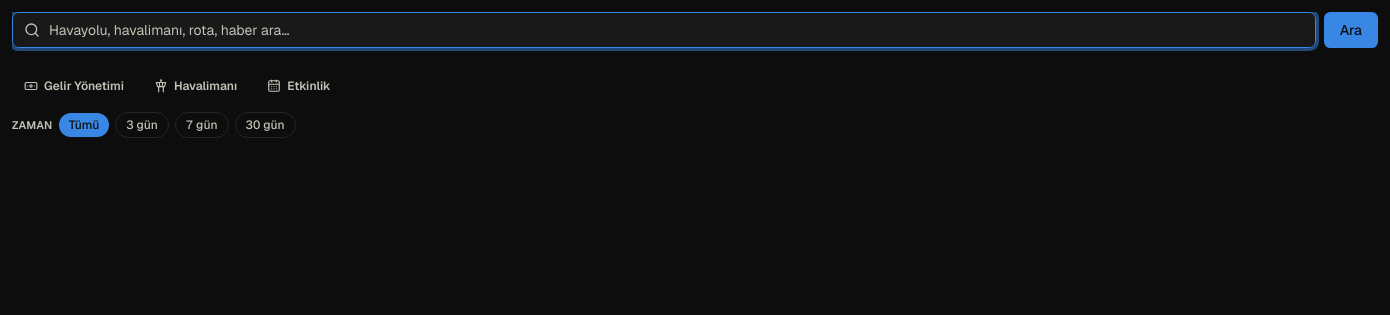
SearchClient › writes the submitted query back into the URL
Type "yakıt" into the field at (664, 30), box x1=12 y1=12 x2=1316 y2=48
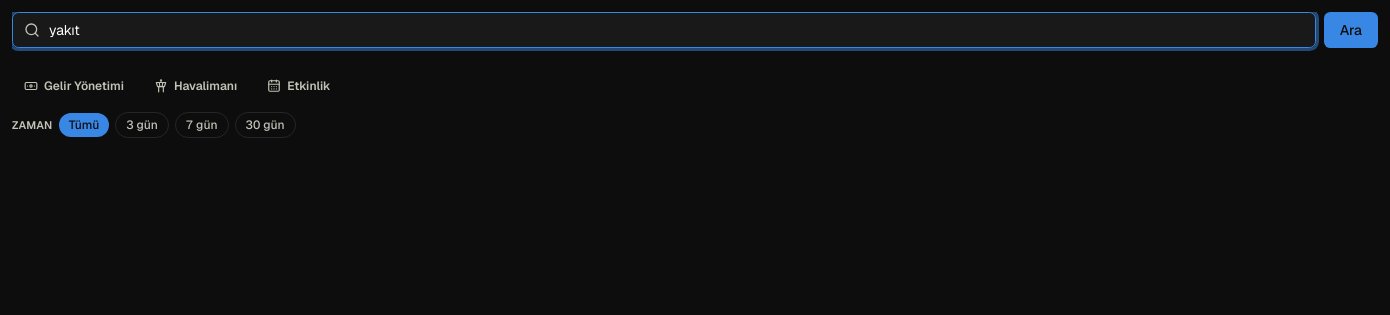
Click the button "Ara" at (1351, 30), box x1=1324 y1=12 x2=1378 y2=48
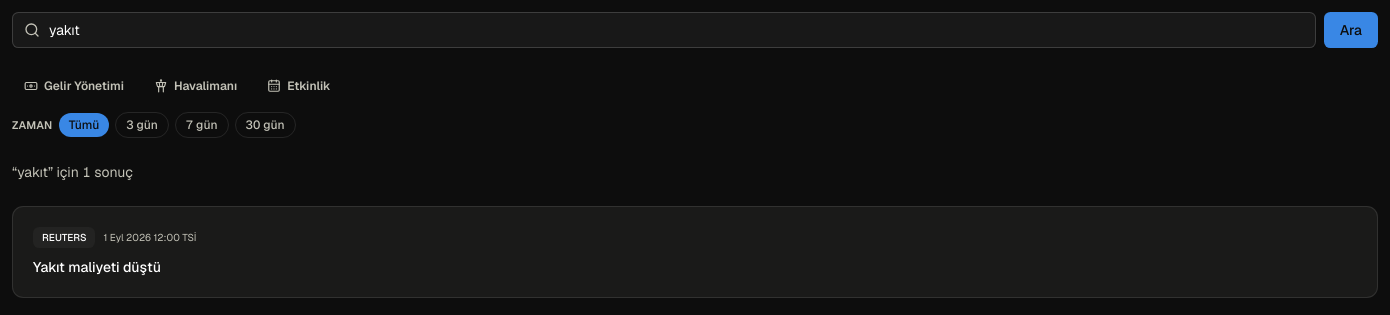
Now the text "Yakıt maliyeti düştü" is shown, box x1=33 y1=258 x2=161 y2=277
